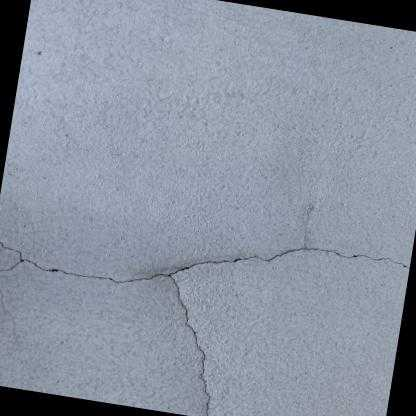crack: (0, 240, 410, 416)
